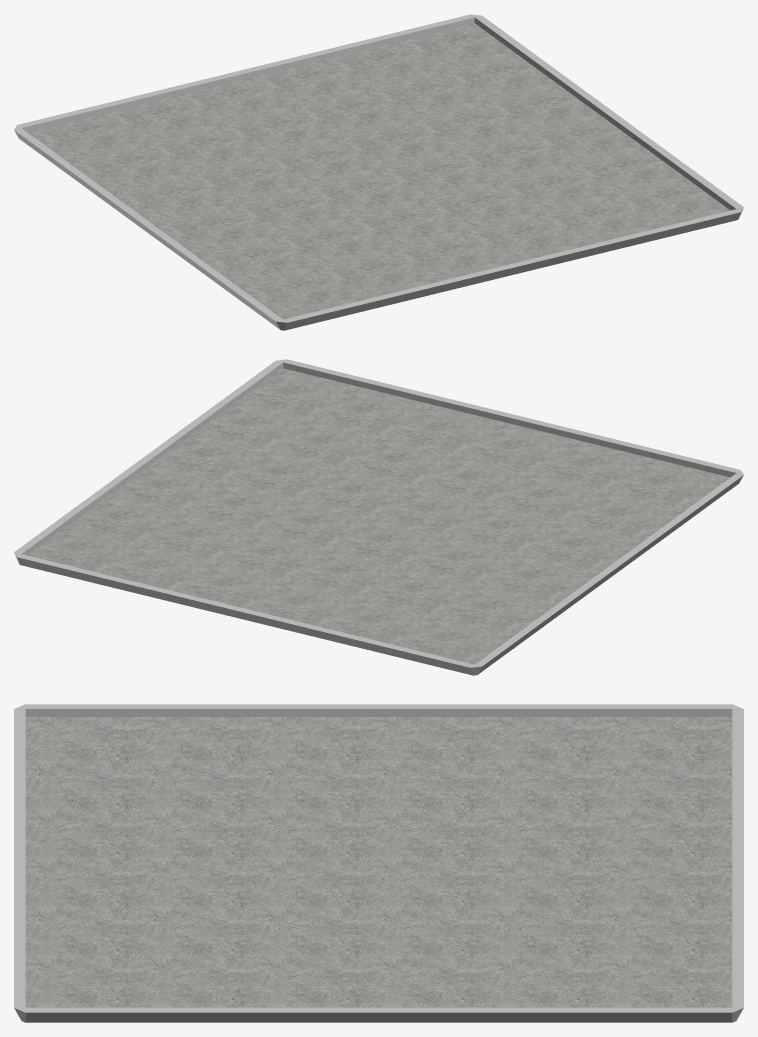
The model's file is Roof_Type_A00.fbx.
3 views of the same model, one above another, from view 1: azimuth 30°, elevation 25°; view 2: azimuth 150°, elevation 25°; view 3: azimuth 270°, elevation 25° (orthographic). The views are drawn at different scales.
Parts seen in each view (by area): view 1: Roof_Type_A00; view 2: Roof_Type_A00; view 3: Roof_Type_A00.
Boxes of the visible parts, <box> form: Roof_Type_A00: <box>14,14,743,330</box>; Roof_Type_A00: <box>14,359,743,675</box>; Roof_Type_A00: <box>14,704,743,1022</box>.
Bounding box in the file's own units: 1586 × 32 × 1586.
